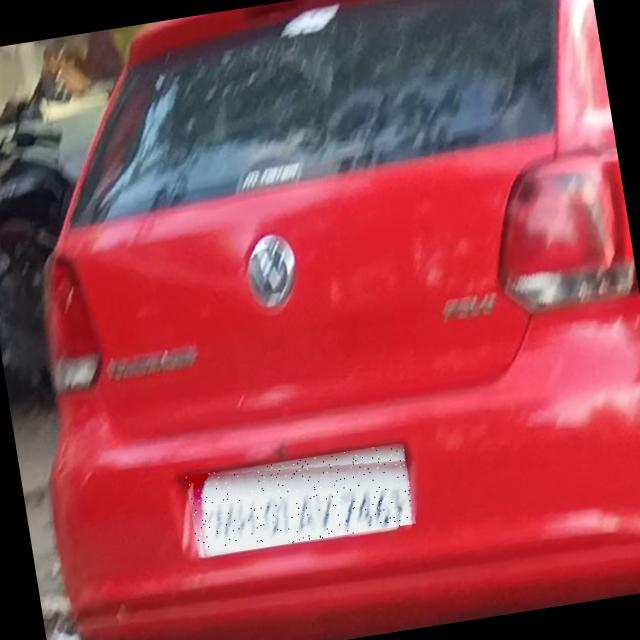Plate: (187, 444, 417, 559)
